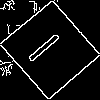I: (25, 24, 70, 65)
